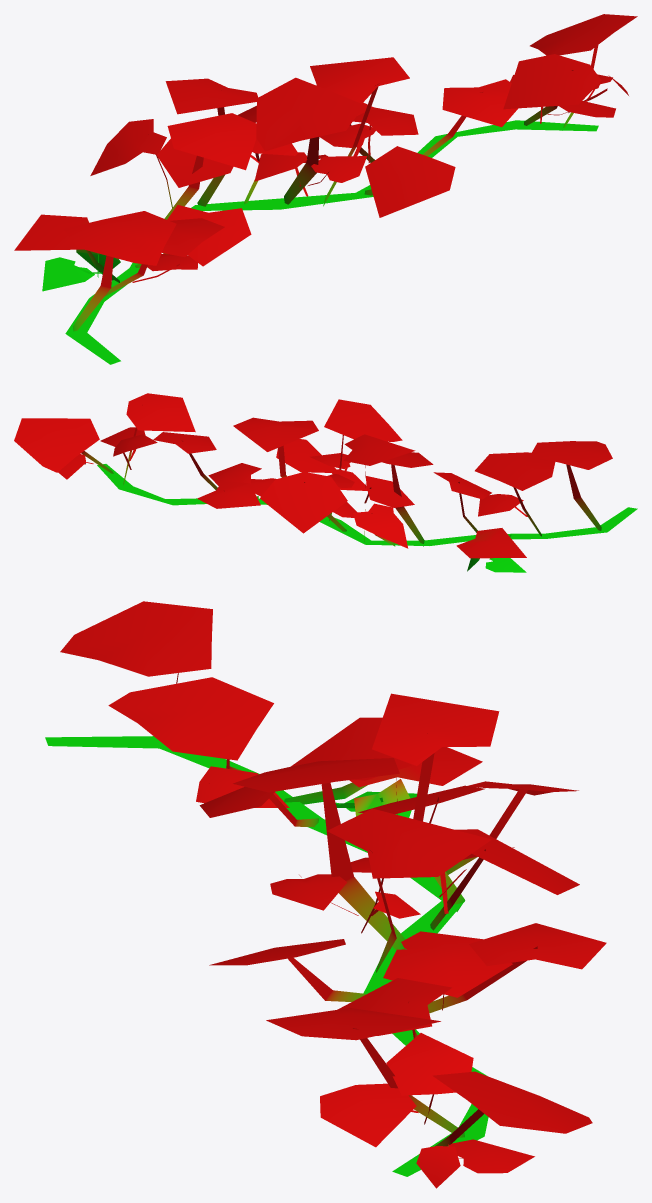
File: Var5_LOD3.fbx
3 views of the same model, one above another, from view 1: azimuth 30°, elevation 25°; view 2: azimuth 150°, elevation 25°; view 3: azimuth 270°, elevation 25° (orthographic). The views are drawn at different scales.
Parts seen in each view (by area): view 1: _vfe2_Var5_LOD3; view 2: _vfe2_Var5_LOD3; view 3: _vfe2_Var5_LOD3.
Boxes of the visible parts, x1=… form: _vfe2_Var5_LOD3: x1=14, y1=14, x2=637, y2=364; _vfe2_Var5_LOD3: x1=14, y1=393, x2=637, y2=572; _vfe2_Var5_LOD3: x1=45, y1=601, x2=606, y2=1188.
Bounding box in the file's own units: 63.66 × 13.42 × 30.74.
